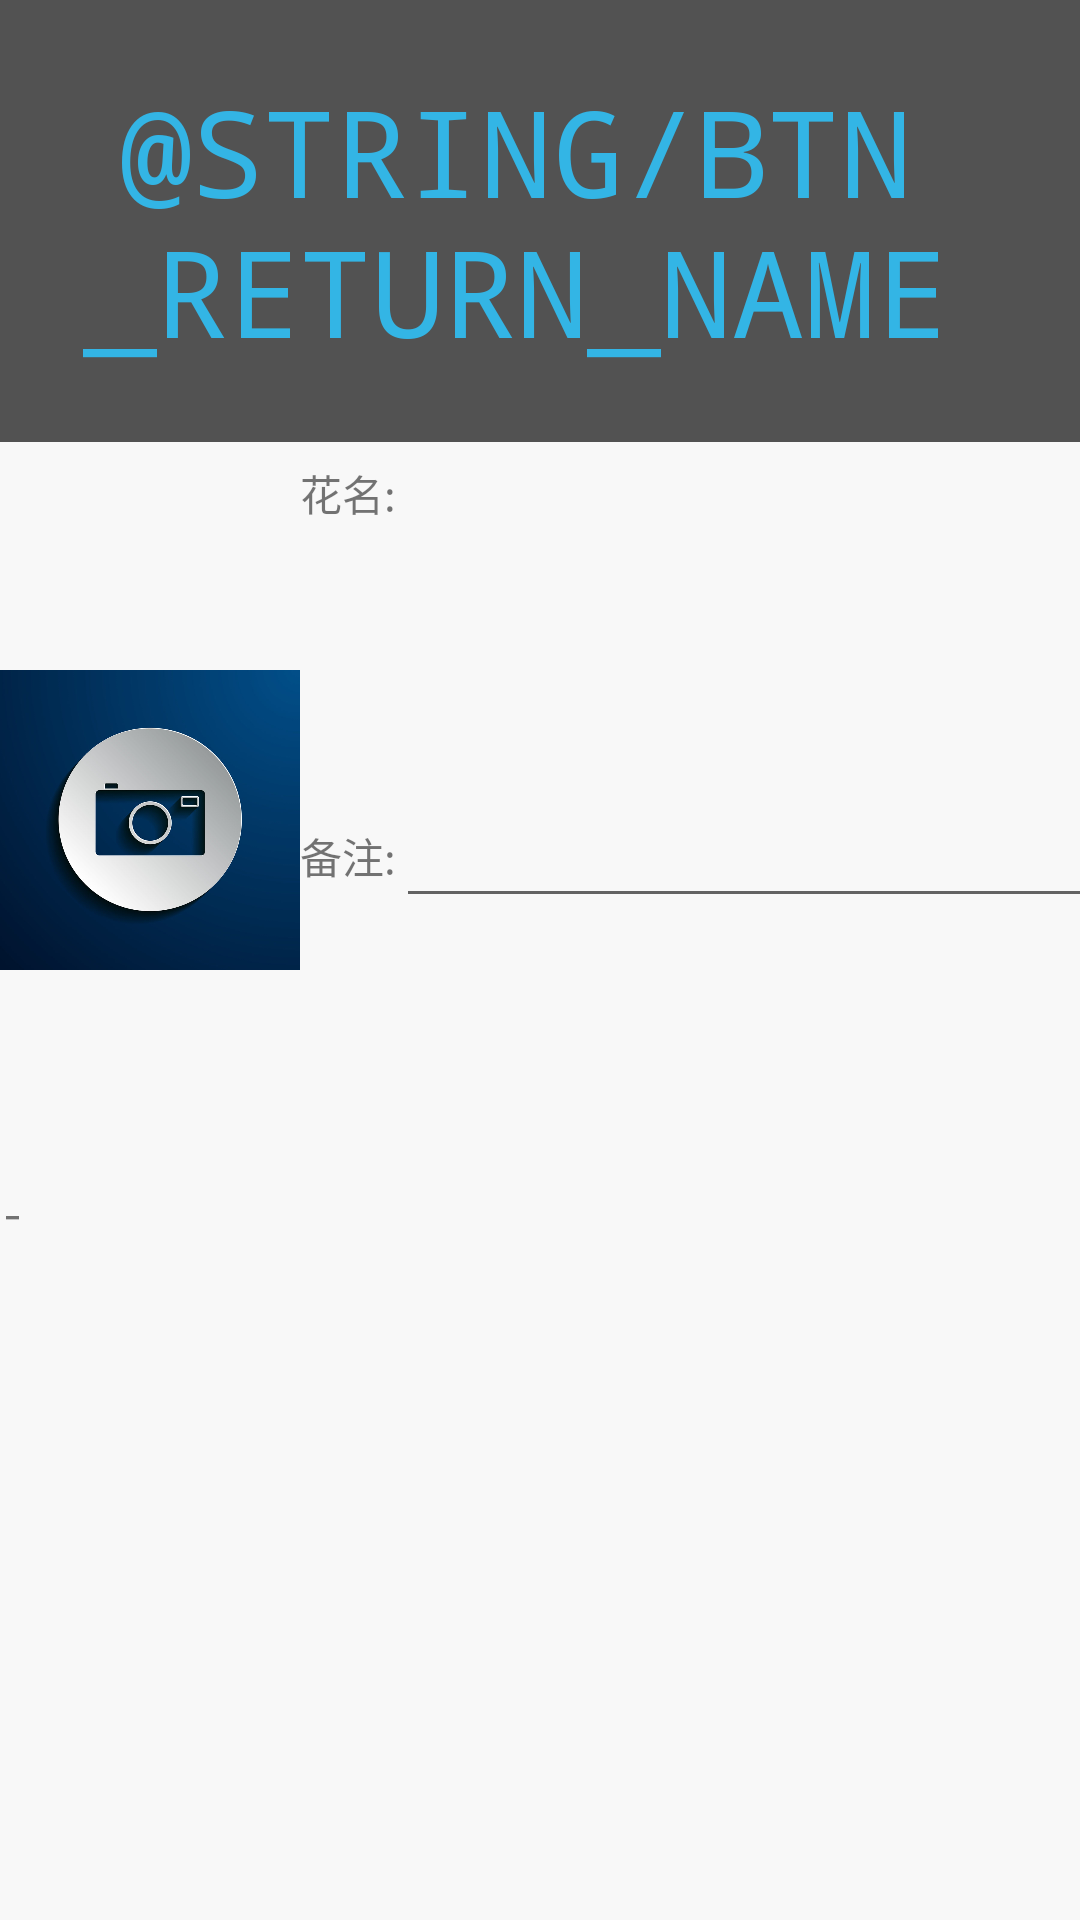

Named icons in this screenshot (1080 × 1920) and their centers, (x=x, y=y):
take photo: (x=150, y=820)
